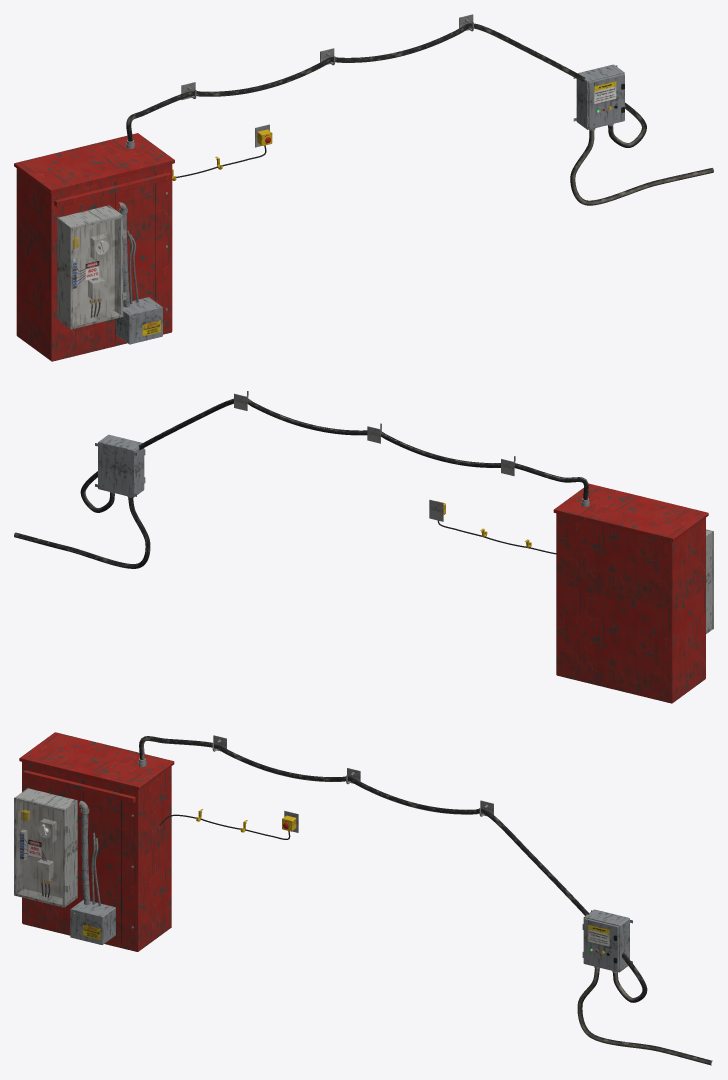
The model's file is SM_AEE_P03_Electricite.glb.
3 renders of one model, top to bottom at view 1: azimuth 30°, elevation 25°; view 2: azimuth 150°, elevation 25°; view 3: azimuth 330°, elevation 25°, orthographic. The views are drawn at different scales.
Visible parts, largest first — view 1: SM_AEE_P03_03_ARMOIRE_DE_LA_CONSOLE_600_V_1, SM_AEE_P03_04_BOITIER_INOX_avec_contacteur_100_D140_1, SM_AEE_P03_05_PORTE_VITREE_du_boitier_1, SM_AEE_P03_01_CABLE_MINIER_600_V_1, SM_AEE_P03_08_BOITE_DE_DEFAUT_A_LA_TERRE_1, SM_AEE_P03_07_TRANSFORMATEUR_600_V_120_V_1, SM_AEE_P03_01_CABLE_MINIER_600_V_2, SM_AEE_P03_06_CONDUIT_coude_galvanise_1; view 2: SM_AEE_P03_03_ARMOIRE_DE_LA_CONSOLE_600_V_1, SM_AEE_P03_01_CABLE_MINIER_600_V_1, SM_AEE_P03_08_BOITE_DE_DEFAUT_A_LA_TERRE_1, SM_AEE_P03_01_CABLE_MINIER_600_V_2, SM_AEE_P03_04_BOITIER_INOX_avec_contacteur_100_D140_1; view 3: SM_AEE_P03_03_ARMOIRE_DE_LA_CONSOLE_600_V_1, SM_AEE_P03_04_BOITIER_INOX_avec_contacteur_100_D140_1, SM_AEE_P03_05_PORTE_VITREE_du_boitier_1, SM_AEE_P03_01_CABLE_MINIER_600_V_1, SM_AEE_P03_08_BOITE_DE_DEFAUT_A_LA_TERRE_1, SM_AEE_P03_07_TRANSFORMATEUR_600_V_120_V_1, SM_AEE_P03_06_CONDUIT_coude_galvanise_1, SM_AEE_P03_01_CABLE_MINIER_600_V_2.
Boxes of the visible parts, <box> form: SM_AEE_P03_03_ARMOIRE_DE_LA_CONSOLE_600_V_1: <box>14,133,174,361</box>; SM_AEE_P03_04_BOITIER_INOX_avec_contacteur_100_D140_1: <box>57,205,121,328</box>; SM_AEE_P03_05_PORTE_VITREE_du_boitier_1: <box>70,214,126,329</box>; SM_AEE_P03_01_CABLE_MINIER_600_V_1: <box>126,23,646,147</box>; SM_AEE_P03_08_BOITE_DE_DEFAUT_A_LA_TERRE_1: <box>573,64,624,130</box>; SM_AEE_P03_07_TRANSFORMATEUR_600_V_120_V_1: <box>115,297,162,344</box>; SM_AEE_P03_01_CABLE_MINIER_600_V_2: <box>570,130,713,205</box>; SM_AEE_P03_06_CONDUIT_coude_galvanise_1: <box>118,202,138,307</box>; SM_AEE_P03_03_ARMOIRE_DE_LA_CONSOLE_600_V_1: <box>553,483,708,703</box>; SM_AEE_P03_01_CABLE_MINIER_600_V_1: <box>80,398,588,512</box>; SM_AEE_P03_08_BOITE_DE_DEFAUT_A_LA_TERRE_1: <box>95,434,145,497</box>; SM_AEE_P03_01_CABLE_MINIER_600_V_2: <box>14,497,150,568</box>; SM_AEE_P03_04_BOITIER_INOX_avec_contacteur_100_D140_1: <box>706,530,712,633</box>; SM_AEE_P03_03_ARMOIRE_DE_LA_CONSOLE_600_V_1: <box>19,732,174,951</box>; SM_AEE_P03_04_BOITIER_INOX_avec_contacteur_100_D140_1: <box>15,788,77,906</box>; SM_AEE_P03_05_PORTE_VITREE_du_boitier_1: <box>14,797,68,907</box>; SM_AEE_P03_01_CABLE_MINIER_600_V_1: <box>139,736,647,1002</box>; SM_AEE_P03_08_BOITE_DE_DEFAUT_A_LA_TERRE_1: <box>582,909,632,973</box>; SM_AEE_P03_07_TRANSFORMATEUR_600_V_120_V_1: <box>70,900,115,944</box>; SM_AEE_P03_06_CONDUIT_coude_galvanise_1: <box>79,800,100,906</box>; SM_AEE_P03_01_CABLE_MINIER_600_V_2: <box>577,968,712,1065</box>.
Bounding box in the file's own units: 7.47 × 2.22 × 0.9525.
23 materials, 15 textured.
